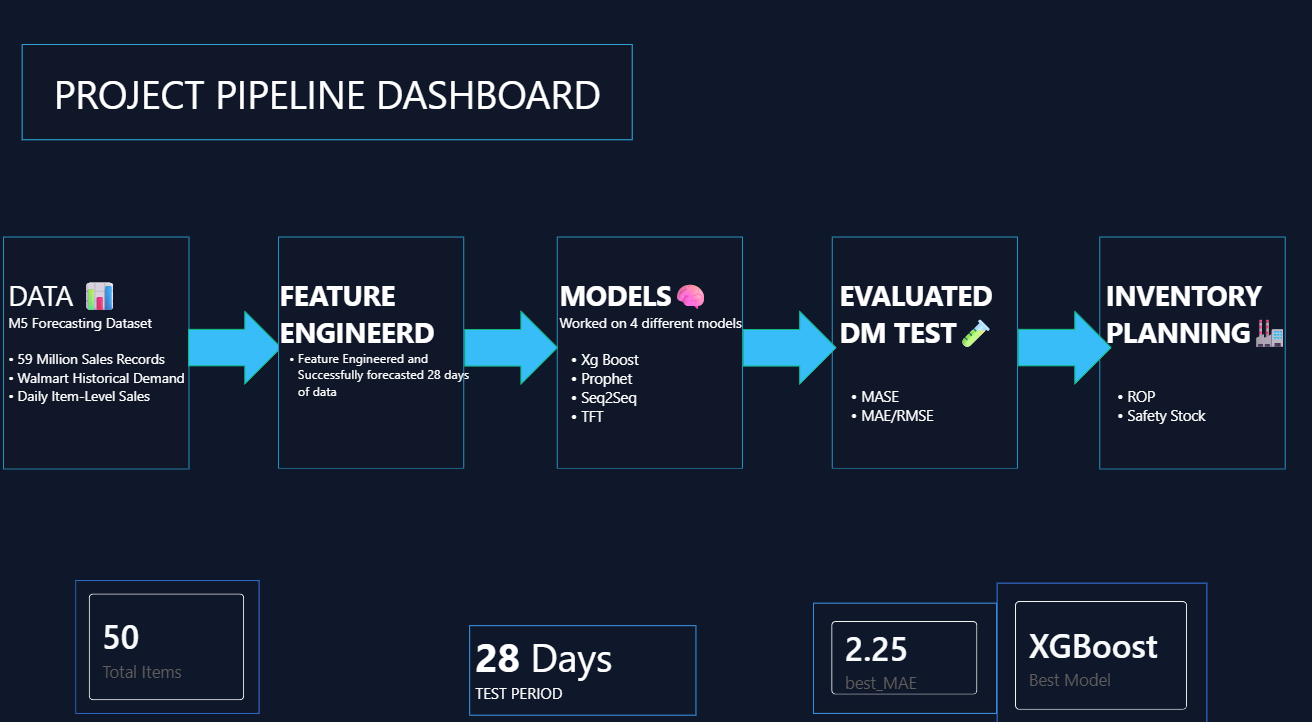

The page's visual inventory and layout, read from the dashboard file:
{"tool":"powerbi","page":{"name":"Project Pipeline Overview","canvas":[1280,720],"ordinal":0},"visuals":[{"type":"shape","box":[9.7,243.3,180,225],"z":0},{"type":"shape","box":[187.9,315.3,90.5,72.1],"z":1000},{"type":"shape","box":[809.5,243.7,179.8,224.4],"z":2000},{"type":"shape","box":[544.1,243.7,179.8,224.4],"z":3000},{"type":"shape","box":[275.1,243.7,179.8,224.4],"z":4000},{"type":"shape","box":[454.8,314.9,90.5,72.4],"z":5000},{"type":"shape","box":[723.9,314.9,90.5,72.4],"z":6000},{"type":"shape","box":[1067.8,243.3,180,225],"z":7000},{"type":"shape","box":[989.1,315.3,90.5,72.1],"z":8000},{"type":"textbox","box":[9.8,277.9,200,201],"z":9000},{"type":"textbox","box":[271.5,277.9,200,201],"z":10000},{"type":"textbox","box":[541.7,277.7,200.3,201.5],"z":11000},{"type":"textbox","box":[811.9,277.7,200.3,201.5],"z":12000},{"type":"textbox","box":[1068.8,277.9,200,201],"z":13000},{"type":"cardVisual","fields":{"Data":["Measuers.Total Items"]},"box":[79.6,575.5,177.3,129.1],"z":14000},{"type":"textbox","box":[459.7,618.9,219.6,86.9],"z":15000},{"type":"cardVisual","fields":{"Data":["Measuers.best_MAE"]},"box":[791.4,597.2,177.3,107.4],"z":16000},{"type":"cardVisual","fields":{"Data":["Measuers.Best Model"]},"box":[968.5,578.4,203,141.8],"z":17000},{"type":"textbox","box":[27.7,57.9,589.9,92.9],"z":19500}]}

Visuals, with their boxes in screenshot pixels (x1, y1, x2, y2), scaled from the page's 1280x720 canvas onto the 1312x722 screenshot:
shape: 10, 244, 194, 470
shape: 193, 316, 285, 388
shape: 830, 244, 1014, 469
shape: 558, 244, 742, 469
shape: 282, 244, 466, 469
shape: 466, 316, 559, 388
shape: 742, 316, 835, 388
shape: 1094, 244, 1279, 470
shape: 1014, 316, 1107, 388
textbox: 10, 279, 215, 480
textbox: 278, 279, 483, 480
textbox: 555, 278, 761, 481
textbox: 832, 278, 1038, 481
textbox: 1096, 279, 1301, 480
cardVisual - Measuers.Total Items: 82, 577, 263, 707
textbox: 471, 621, 696, 708
cardVisual - Measuers.best_MAE: 811, 599, 993, 707
cardVisual - Measuers.Best Model: 993, 580, 1201, 721
textbox: 28, 58, 633, 151
